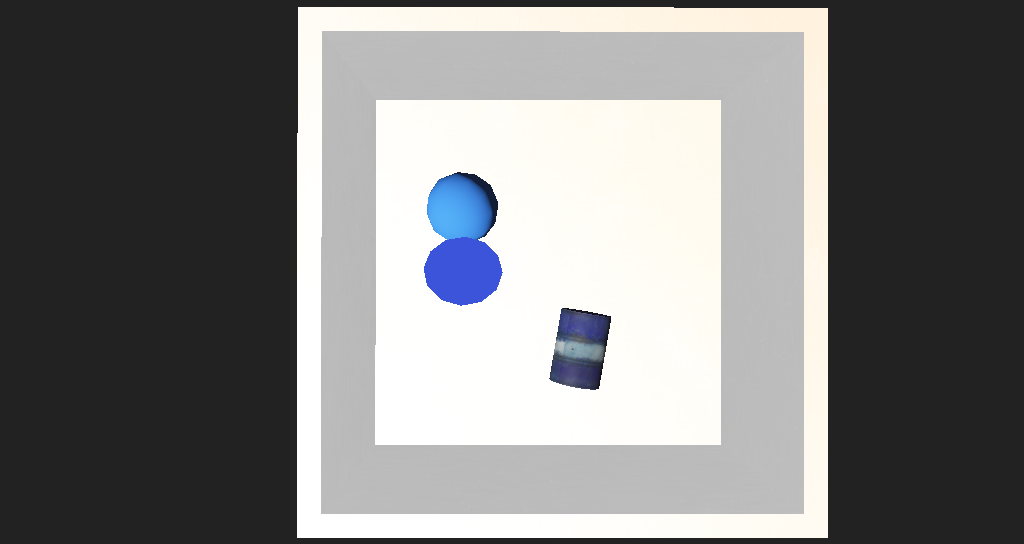cone: (505, 289, 559, 341)
cylinder: (394, 243, 468, 310)
sphere: (401, 205, 461, 253)
